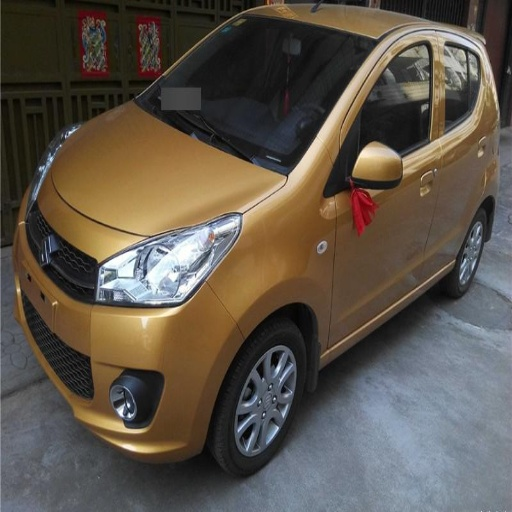front_bumper: (18, 200, 244, 457)
front_glass: (139, 19, 378, 174)
front_left_door: (327, 35, 441, 348)
